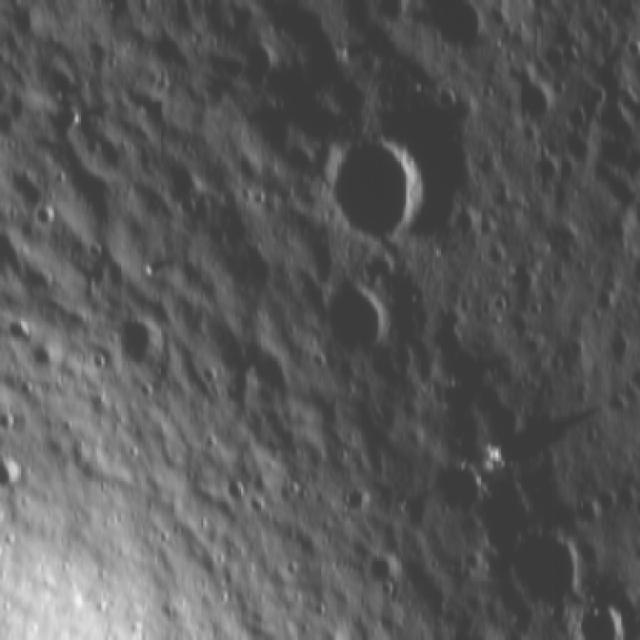crater: (323, 125, 440, 253), (494, 519, 586, 619), (312, 280, 406, 374), (417, 446, 492, 522), (105, 305, 177, 380), (412, 5, 492, 60), (511, 66, 571, 132), (364, 550, 414, 598), (341, 482, 376, 520)
